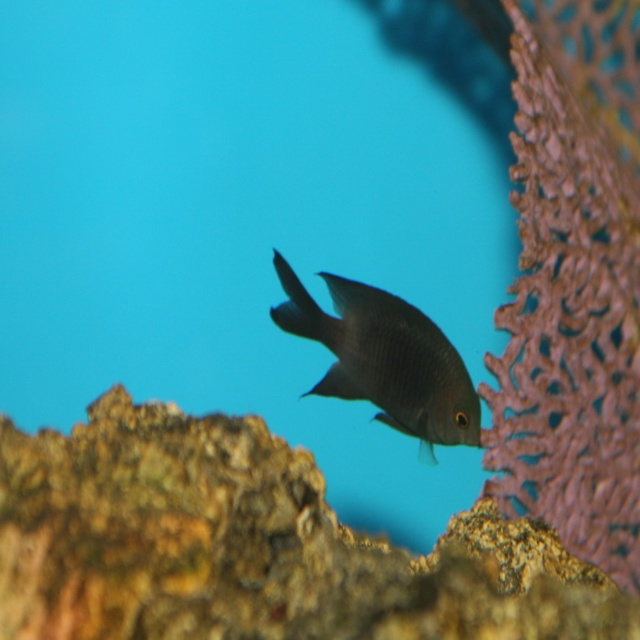Fish: (269, 247, 480, 470)
